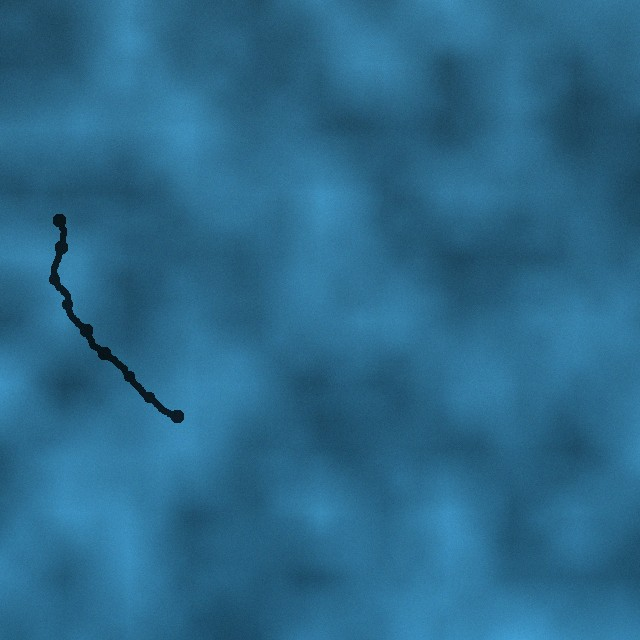crack: (47, 214, 183, 422)
